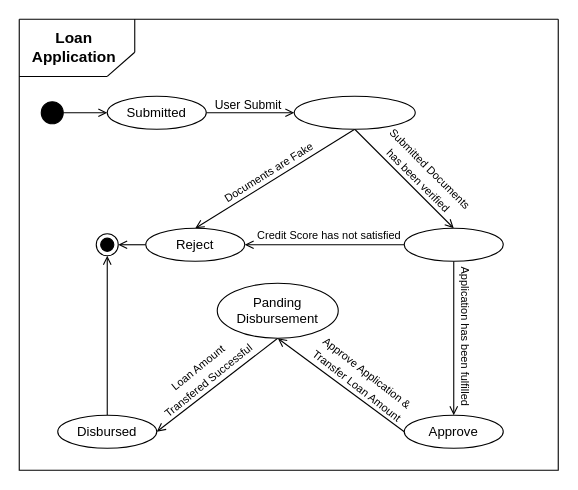
This 578x490 diagram has some shape labels left out. The centre of each missing label's shape, as x and y in pixels:
"Pending" belongs at (453,244).
"Under Review" belongs at (354,112).
